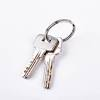key: (19, 16, 80, 91)
